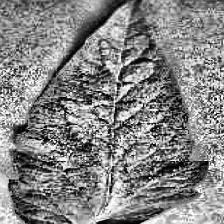spider mites: (11, 0, 209, 224)
